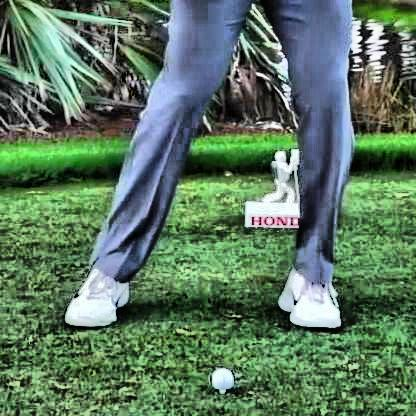golfball: (206, 363, 231, 388)
